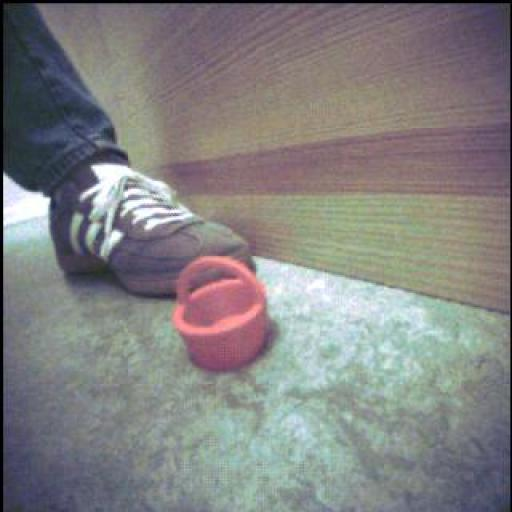Bucket: (174, 257, 268, 372)
